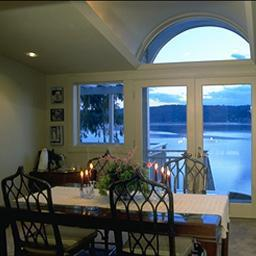Puerta: (138, 77, 255, 199)
